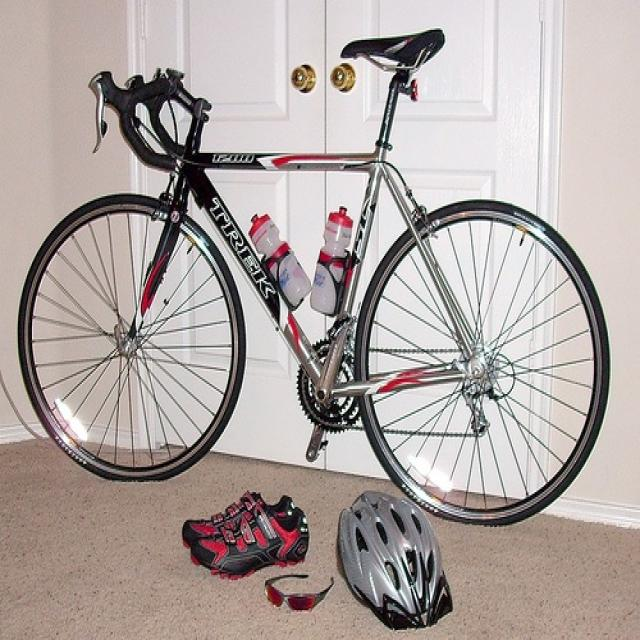bicycle: (16, 26, 612, 528)
bottle: (247, 211, 310, 311), (310, 206, 357, 316)
